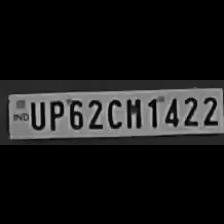1: (144, 95, 160, 127)
2: (84, 96, 104, 128), (199, 92, 219, 124), (180, 93, 198, 125)
4: (160, 94, 180, 126)
6: (64, 96, 84, 128)
C: (104, 95, 122, 127)
M: (122, 94, 142, 128)
P: (45, 96, 63, 130)
U: (27, 97, 45, 128)
